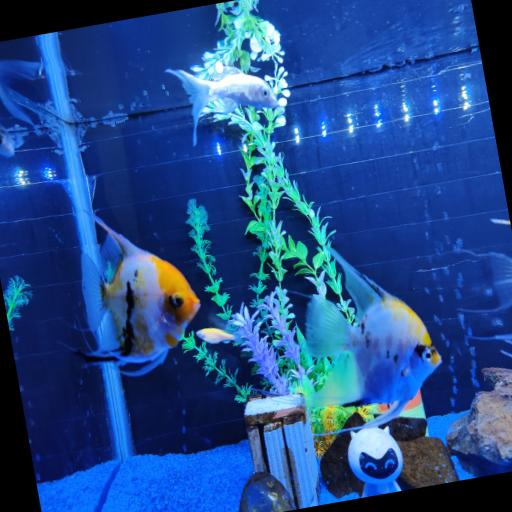Fish: (306, 249, 441, 423), (76, 217, 200, 375), (166, 66, 277, 146), (459, 251, 511, 313), (0, 60, 41, 124), (197, 328, 239, 344), (0, 124, 17, 157), (491, 219, 510, 225)
